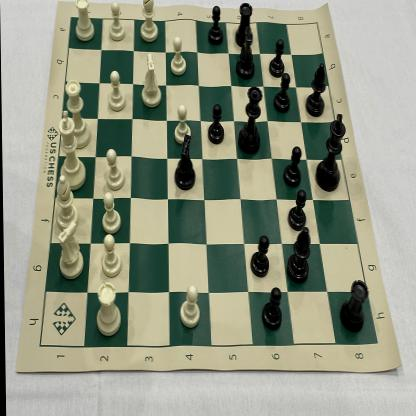black-bishop: (285, 228, 311, 284), (305, 61, 328, 118)
black-king: (314, 110, 347, 194)
black-knight: (172, 132, 196, 191), (234, 26, 256, 80)
black-pawn: (248, 233, 270, 281), (260, 285, 282, 333), (285, 189, 308, 231), (282, 145, 303, 187), (272, 73, 291, 115), (205, 104, 224, 146), (267, 38, 285, 78), (206, 4, 224, 44)
black-queen: (237, 85, 262, 155)
black-rook: (337, 274, 368, 336), (233, 0, 255, 48)
white-bishop: (52, 174, 78, 230), (138, 0, 160, 42)
white-king: (55, 110, 86, 192)
white-knight: (54, 218, 84, 278), (139, 52, 161, 108)
white-pawn: (99, 233, 122, 277), (177, 282, 199, 326), (106, 0, 127, 44), (99, 193, 122, 233), (171, 103, 192, 146), (103, 148, 124, 190), (167, 34, 187, 78), (107, 69, 125, 112)
white-queen: (61, 78, 92, 151)
white-rook: (93, 280, 121, 339), (72, 0, 98, 44)
